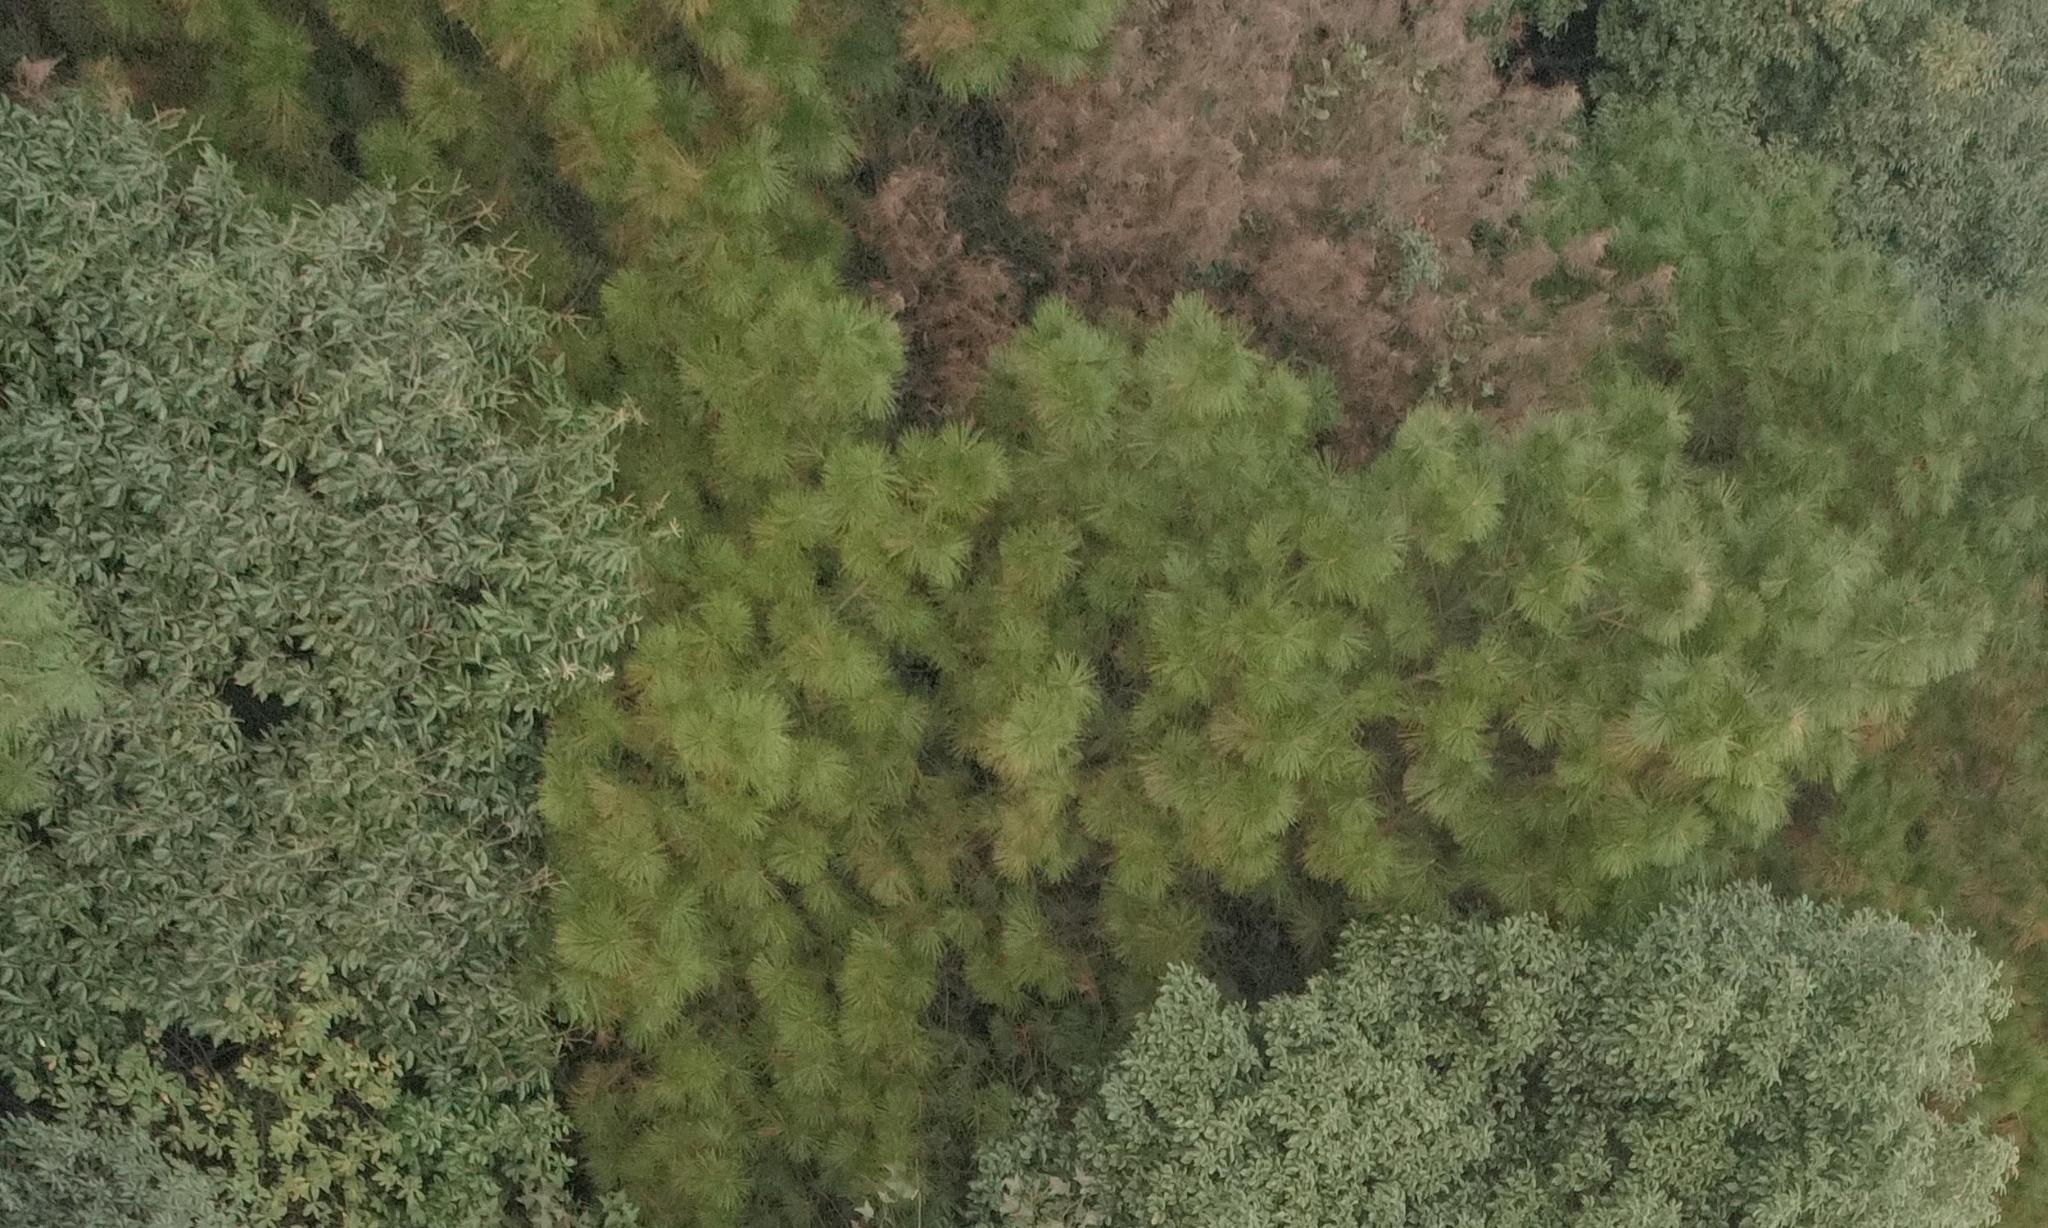heavy: (868, 3, 1687, 433)
